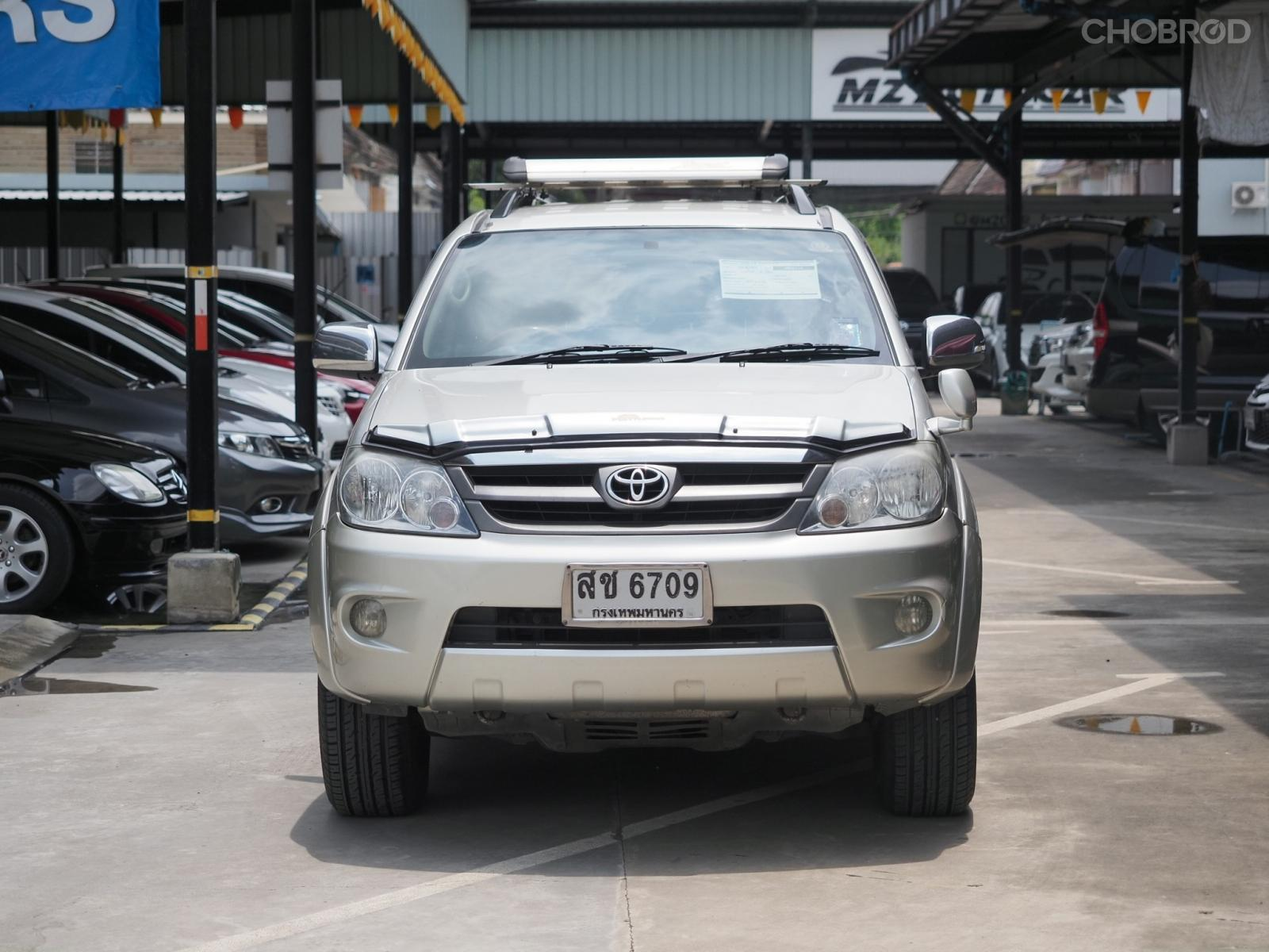license-plate: (564, 565, 716, 631)
